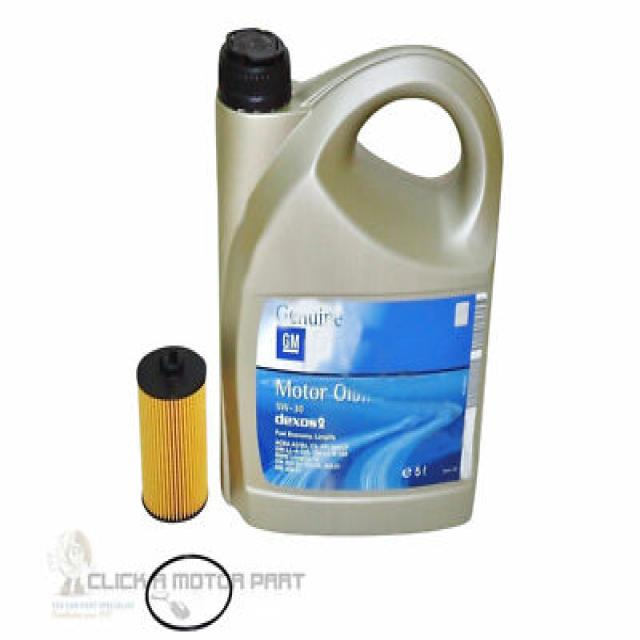motor_oil: (213, 21, 505, 538)
oil_filter: (136, 341, 209, 531)
